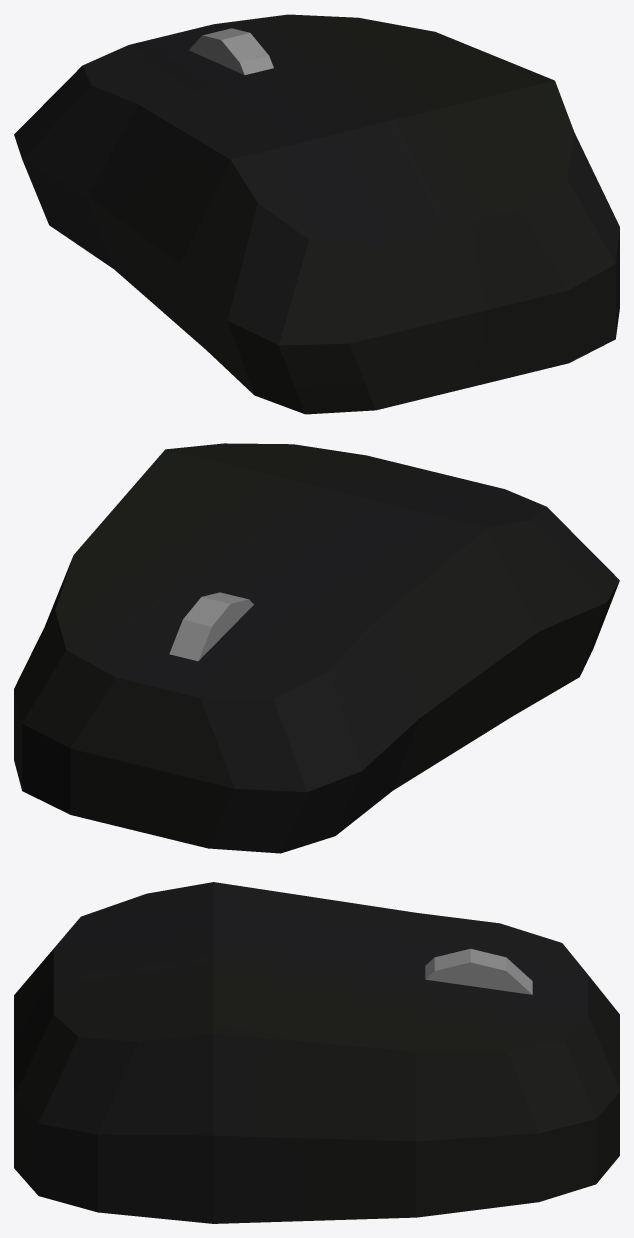
File: mouse.glb
The picture shows the model from 3 angles, top to bottom: view 1: azimuth 30°, elevation 25°; view 2: azimuth 150°, elevation 25°; view 3: azimuth 270°, elevation 25°; orthographic projection. The views are drawn at different scales.
Visible parts, largest first — view 1: Mouse; view 2: Mouse; view 3: Mouse.
Part boxes in pixels (x1=…): Mouse: x1=14, y1=14, x2=619, y2=414; Mouse: x1=14, y1=443, x2=619, y2=853; Mouse: x1=14, y1=882, x2=619, y2=1223.
Size of the model in its own units: 0.0833 by 0.0354 by 0.11.
Materials: 1 (1 with a texture image).
